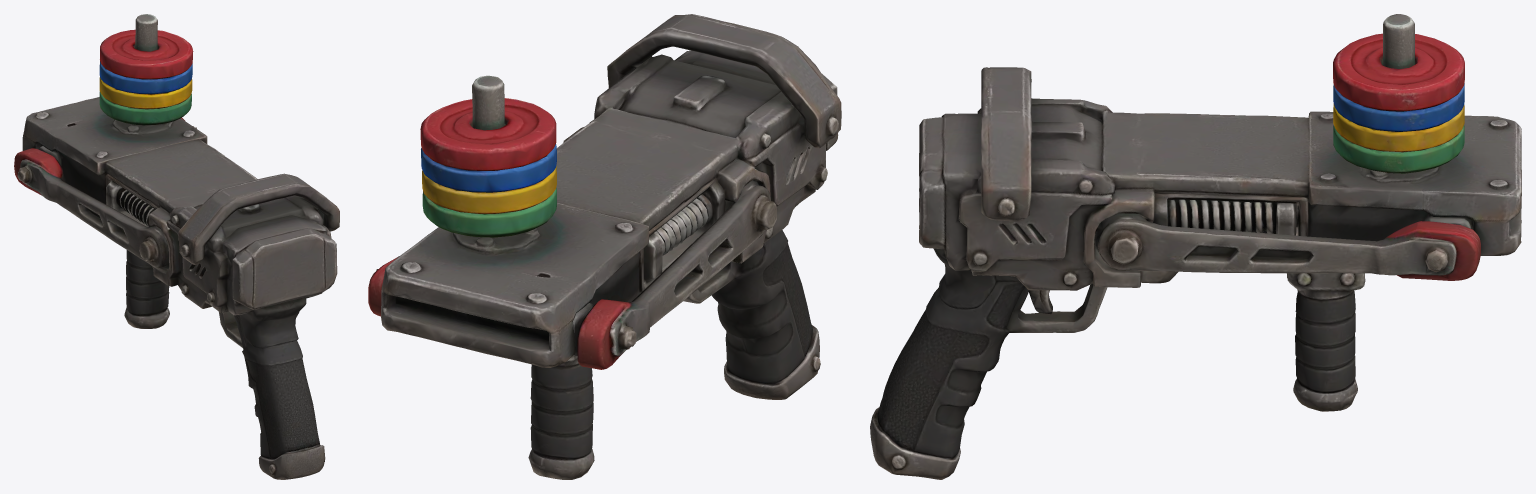
File: weapon-plate-launcher.glb
3 renders of one model, left to right at view 1: azimuth 30°, elevation 25°; view 2: azimuth 150°, elevation 25°; view 3: azimuth 270°, elevation 25°, orthographic. The views are drawn at different scales.
Visible parts, largest first — view 1: tripo_node_befecb4c-721a-4c7b-8493-21501ed16f7e; view 2: tripo_node_befecb4c-721a-4c7b-8493-21501ed16f7e; view 3: tripo_node_befecb4c-721a-4c7b-8493-21501ed16f7e.
Boxes of the visible parts, x1,y1,x2,y2 form: tripo_node_befecb4c-721a-4c7b-8493-21501ed16f7e: [14, 14, 339, 479]; tripo_node_befecb4c-721a-4c7b-8493-21501ed16f7e: [368, 14, 841, 479]; tripo_node_befecb4c-721a-4c7b-8493-21501ed16f7e: [870, 14, 1521, 479].
Size of the model in its own units: 0.3129 by 0.5529 by 0.7.
Materials: 1 (1 with a texture image).
